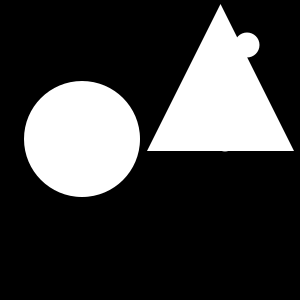rectangle: (24, 81, 140, 197), (235, 32, 260, 57), (214, 130, 236, 152)
triangle: (147, 4, 294, 151), (193, 108, 210, 125)
